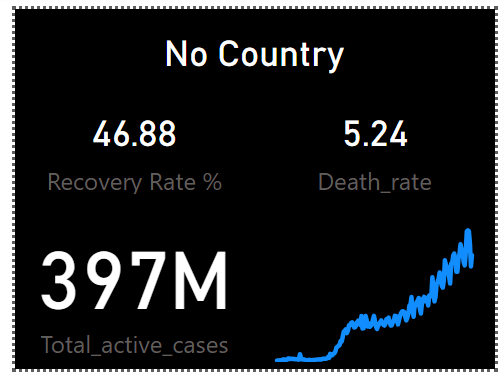

Layout of this report page (visuals, bound fields, positions):
{"tool":"powerbi","page":{"name":"Country Tooltip","canvas":[320,240],"ordinal":2},"visuals":[{"type":"card","fields":{"Values":["CaseType.TooltipCountry"]},"box":[0,0,320,56],"z":0},{"type":"card","fields":{"Values":["full_grouped.Recovery Rate %"]},"box":[0,56,160,72],"z":1},{"type":"card","fields":{"Values":["full_grouped.Death_rate"]},"box":[160,56,160,72],"z":2},{"type":"card","fields":{"Values":["full_grouped.Total_active_cases"]},"box":[0,128,160,112],"z":3},{"type":"lineChart","fields":{"Category":["DateTable.Date"],"Y":["Sum(full_grouped.New cases)"]},"box":[160,128,160,112],"z":4}]}

Visuals, with their boxes in screenshot pixels (x1, y1, x2, y2), scaled from the page's 320x240 canvas onto the 499x381 screenshot:
card - CaseType.TooltipCountry: {"x1": 0, "y1": 0, "x2": 498, "y2": 89}
card - full_grouped.Recovery Rate %: {"x1": 0, "y1": 89, "x2": 250, "y2": 203}
card - full_grouped.Death_rate: {"x1": 250, "y1": 89, "x2": 498, "y2": 203}
card - full_grouped.Total_active_cases: {"x1": 0, "y1": 203, "x2": 250, "y2": 380}
lineChart - DateTable.Date x Sum(full_grouped.New cases): {"x1": 250, "y1": 203, "x2": 498, "y2": 380}
